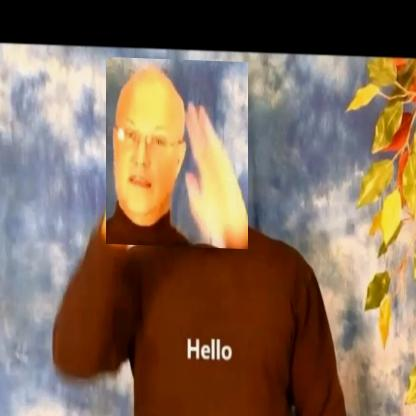Hello: (106, 56, 248, 247)
